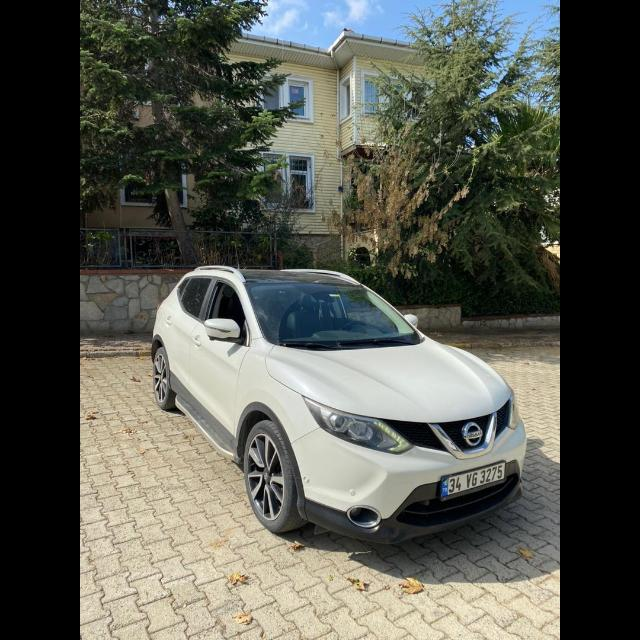Plaka: (444, 465, 506, 499)
